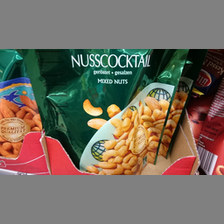nuts: (17, 50, 191, 174)
